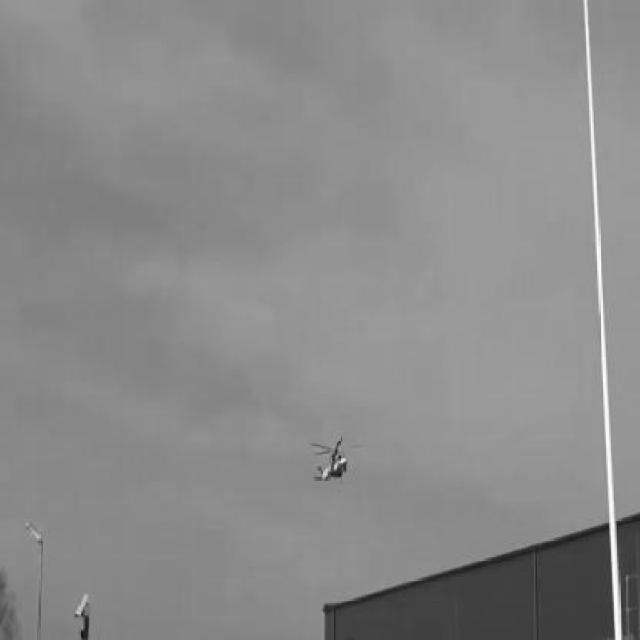helikopter: (306, 432, 354, 490)
